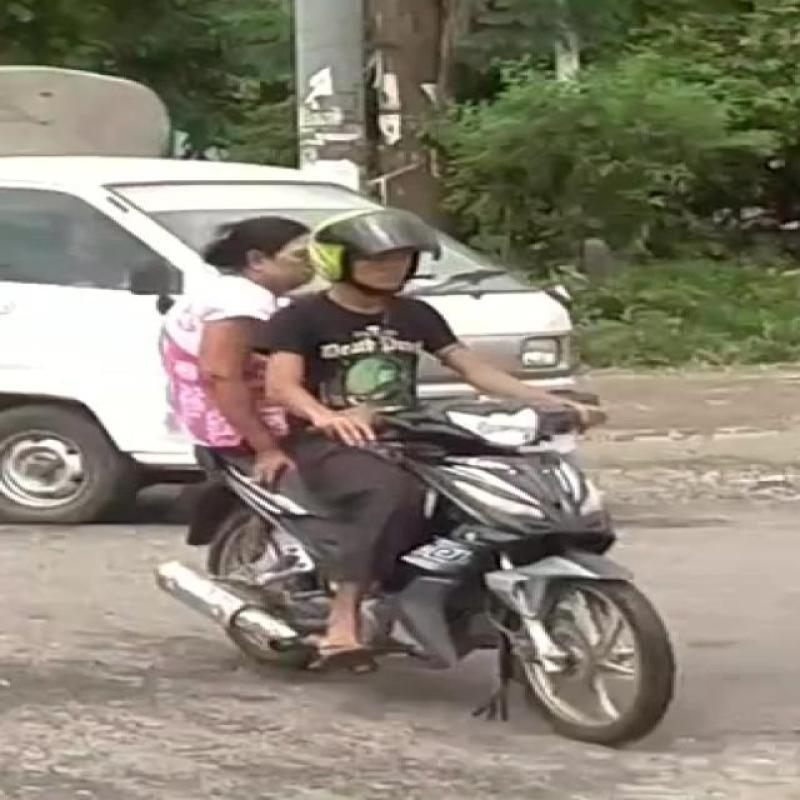nohelmet: (169, 190, 317, 290)
